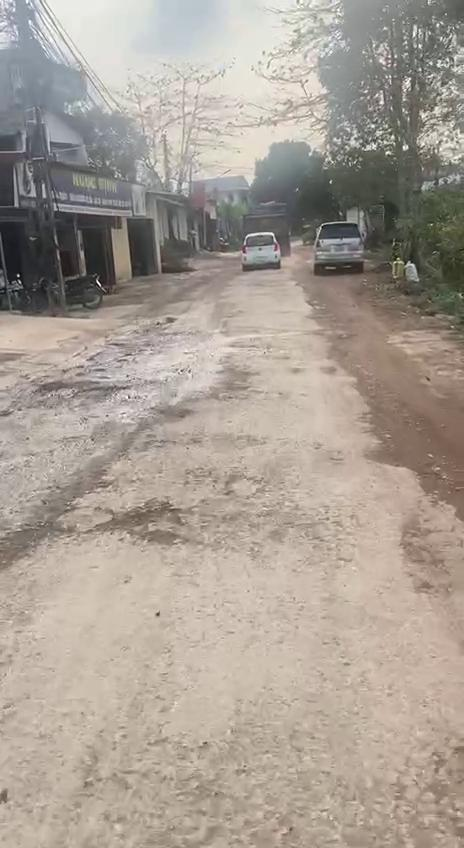pothole: (87, 501, 182, 551), (221, 470, 260, 500)
